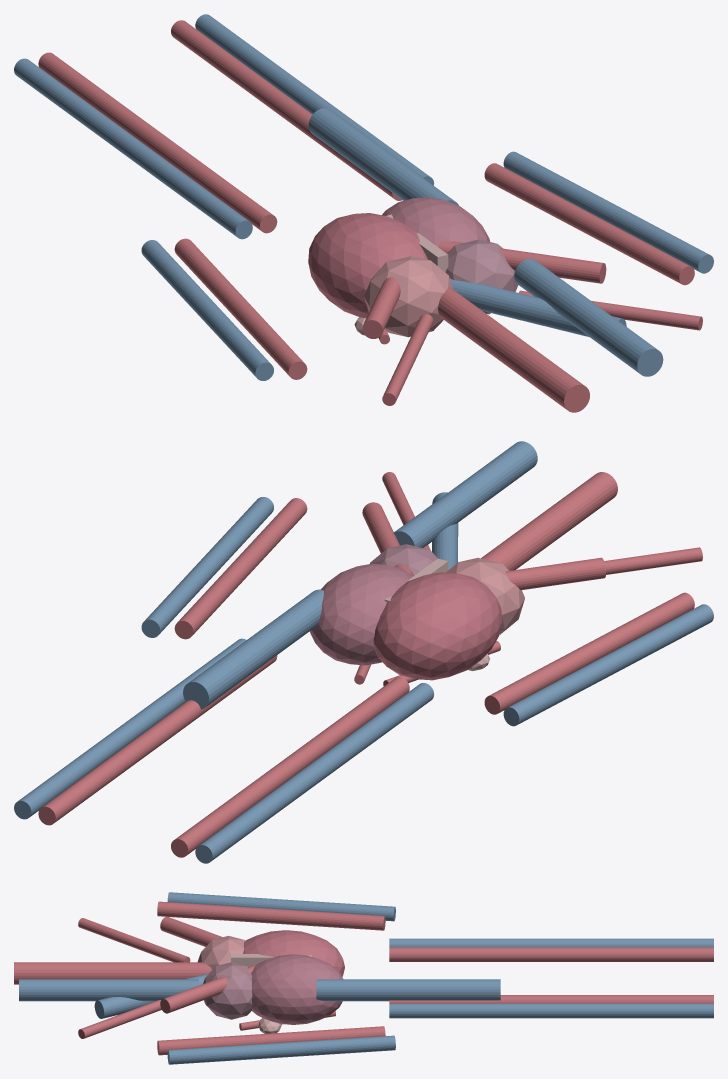
The model's file is cardiovascular-g3-high.glb.
The picture shows the model from 3 angles, top to bottom: view 1: azimuth 30°, elevation 25°; view 2: azimuth 150°, elevation 25°; view 3: azimuth 270°, elevation 25°; orthographic projection. The views are drawn at different scales.
Visible parts, largest first — view 1: left_ventricle, left_leg_vein, left_leg_artery, aorta, superior_vena_cava, right_arm_artery, right_arm_vein, inferior_vena_cava, left_atrium, right_leg_artery, right_leg_vein, left_arm_artery (+8 smaller); view 2: left_ventricle, right_ventricle, left_leg_vein, left_leg_artery, inferior_vena_cava, left_arm_vein, superior_vena_cava, left_arm_artery, right_leg_vein, right_leg_artery, aorta, right_arm_artery (+8 smaller); view 3: right_leg_vein, right_ventricle, left_leg_artery, inferior_vena_cava, superior_vena_cava, left_arm_artery, right_arm_vein, aorta, left_leg_vein, right_arm_artery, left_arm_vein, right_leg_artery (+9 smaller).
Boxes of the visible parts, bbox=[...] form: left_ventricle: bbox=[308, 213, 427, 318]; left_leg_vein: bbox=[14, 58, 252, 239]; left_leg_artery: bbox=[38, 52, 277, 233]; aorta: bbox=[438, 287, 589, 412]; superior_vena_cava: bbox=[514, 259, 663, 376]; right_arm_artery: bbox=[484, 163, 694, 285]; right_arm_vein: bbox=[503, 151, 713, 273]; inferior_vena_cava: bbox=[308, 108, 458, 205]; left_atrium: bbox=[364, 256, 452, 337]; right_leg_artery: bbox=[171, 20, 402, 200]; right_leg_vein: bbox=[195, 14, 434, 185]; left_arm_artery: bbox=[174, 238, 307, 379]; left_ventricle: bbox=[373, 572, 502, 680]; right_ventricle: bbox=[309, 563, 413, 665]; left_leg_vein: bbox=[195, 683, 434, 863]; left_leg_artery: bbox=[171, 677, 409, 857]; inferior_vena_cava: bbox=[183, 589, 323, 709]; left_arm_vein: bbox=[503, 604, 713, 726]; superior_vena_cava: bbox=[393, 441, 537, 547]; left_arm_artery: bbox=[484, 592, 694, 714]; right_leg_vein: bbox=[14, 638, 246, 819]; right_leg_artery: bbox=[38, 655, 277, 825]; aorta: bbox=[481, 472, 617, 570]; right_arm_artery: bbox=[174, 498, 307, 639]; right_leg_vein: bbox=[389, 1003, 713, 1018]; right_ventricle: bbox=[251, 954, 343, 1024]; left_leg_artery: bbox=[389, 947, 713, 961]; inferior_vena_cava: bbox=[316, 979, 500, 1001]; superior_vena_cava: bbox=[19, 979, 198, 1001]; left_arm_artery: bbox=[157, 901, 385, 930]; right_arm_vein: bbox=[167, 1035, 395, 1064]; aorta: bbox=[14, 962, 211, 984]; left_leg_vein: bbox=[389, 938, 713, 947]; right_arm_artery: bbox=[157, 1026, 385, 1055]; left_arm_vein: bbox=[167, 892, 395, 921]; right_leg_artery: bbox=[389, 995, 713, 1003].
Size of the model in its own units: 2.63 by 0.52 by 4.75.
